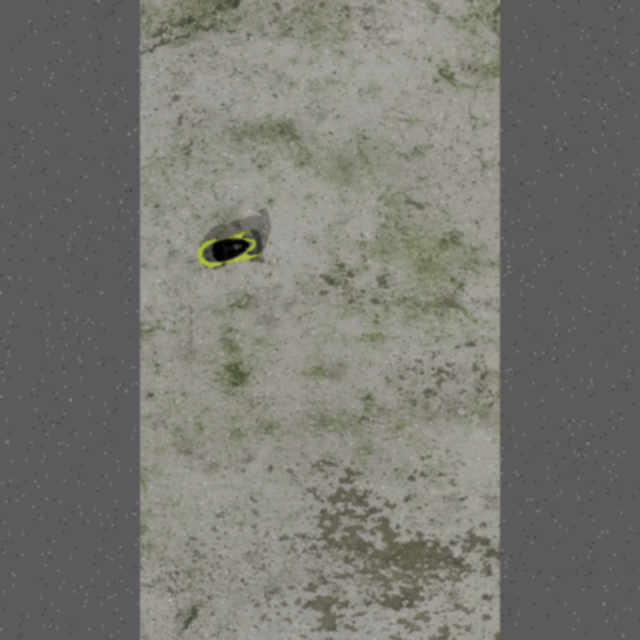car: (191, 226, 265, 273)
